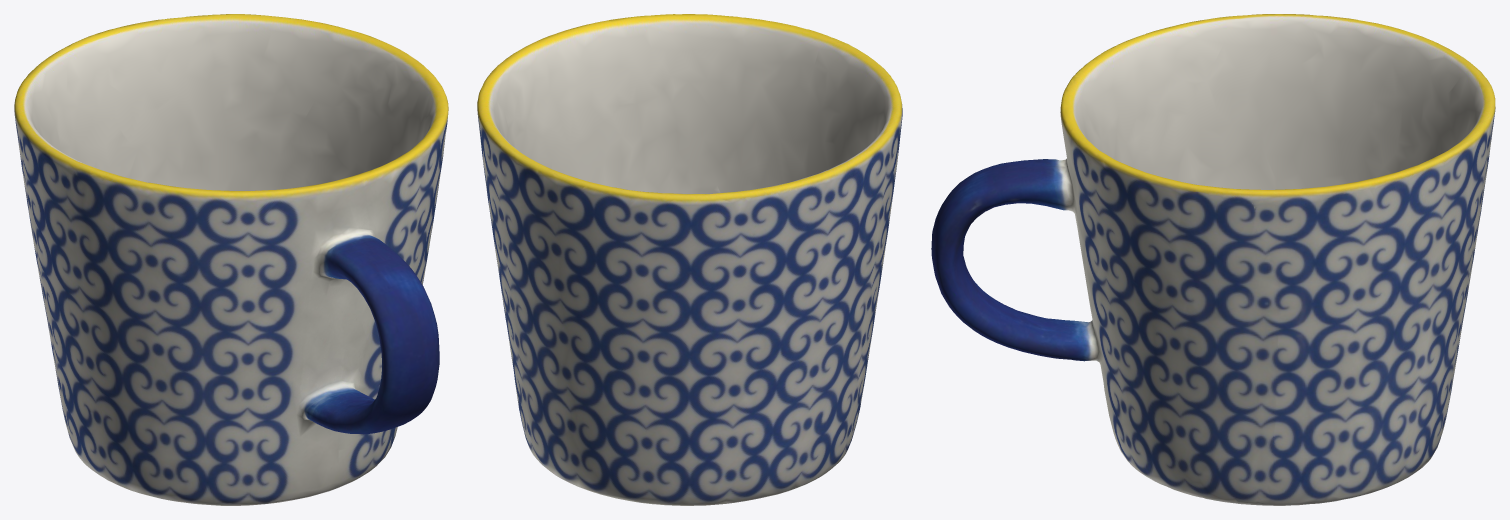
The picture shows the model from 3 angles, left to right: view 1: azimuth 30°, elevation 25°; view 2: azimuth 150°, elevation 25°; view 3: azimuth 270°, elevation 25°; orthographic projection.
Visible parts, largest first — view 1: mesh0_object.004; view 2: mesh0_object.004; view 3: mesh0_object.004.
Part boxes in pixels (x1=…): mesh0_object.004: x1=14, y1=14, x2=448, y2=505; mesh0_object.004: x1=477, y1=14, x2=902, y2=505; mesh0_object.004: x1=931, y1=14, x2=1495, y2=505.
Size of the model in its own units: 0.097 by 0.0841 by 0.1272.
Materials: 1 (1 with a texture image).
